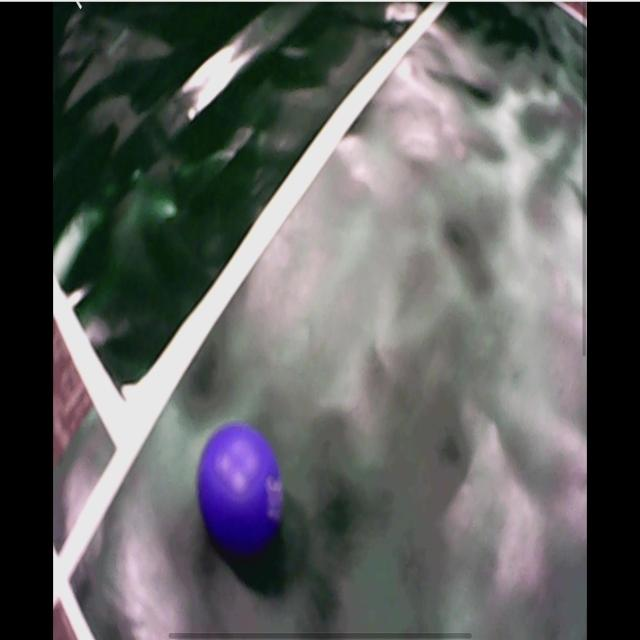ball: (196, 422, 285, 550)
